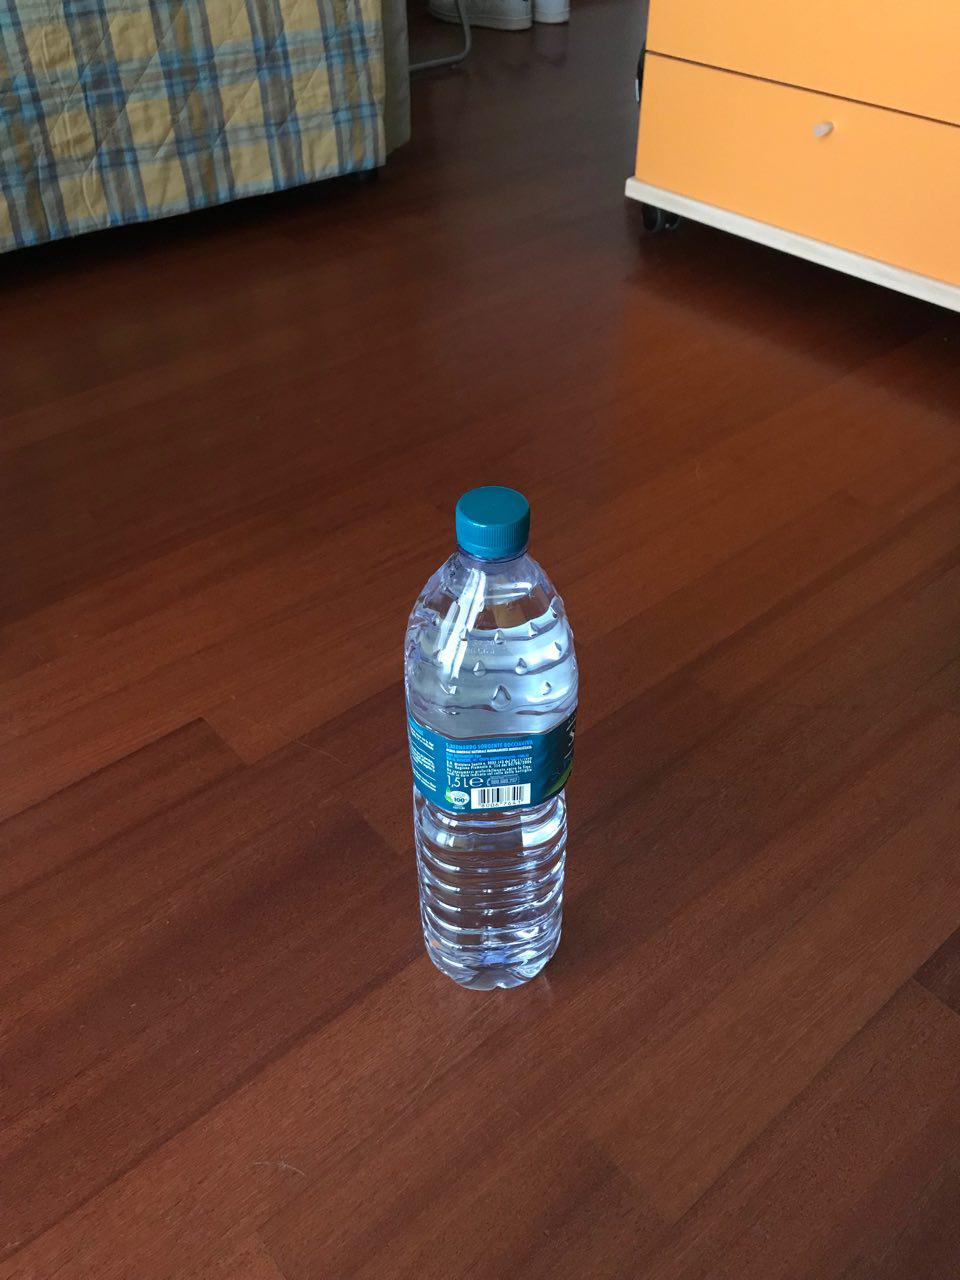san_bernardo: (400, 486, 582, 991)
